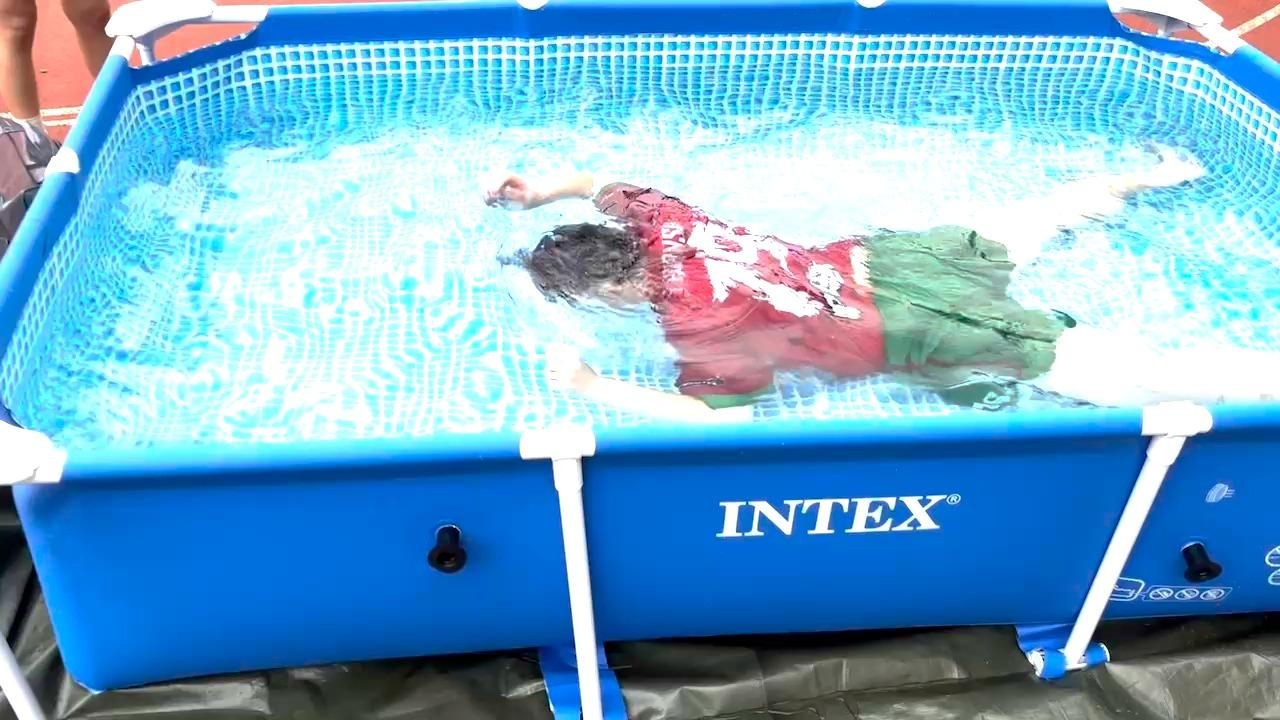Drowning: (446, 147, 1260, 430)
